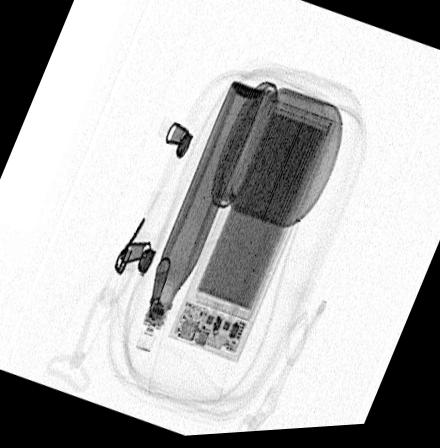Powerbank: (169, 101, 338, 368)
